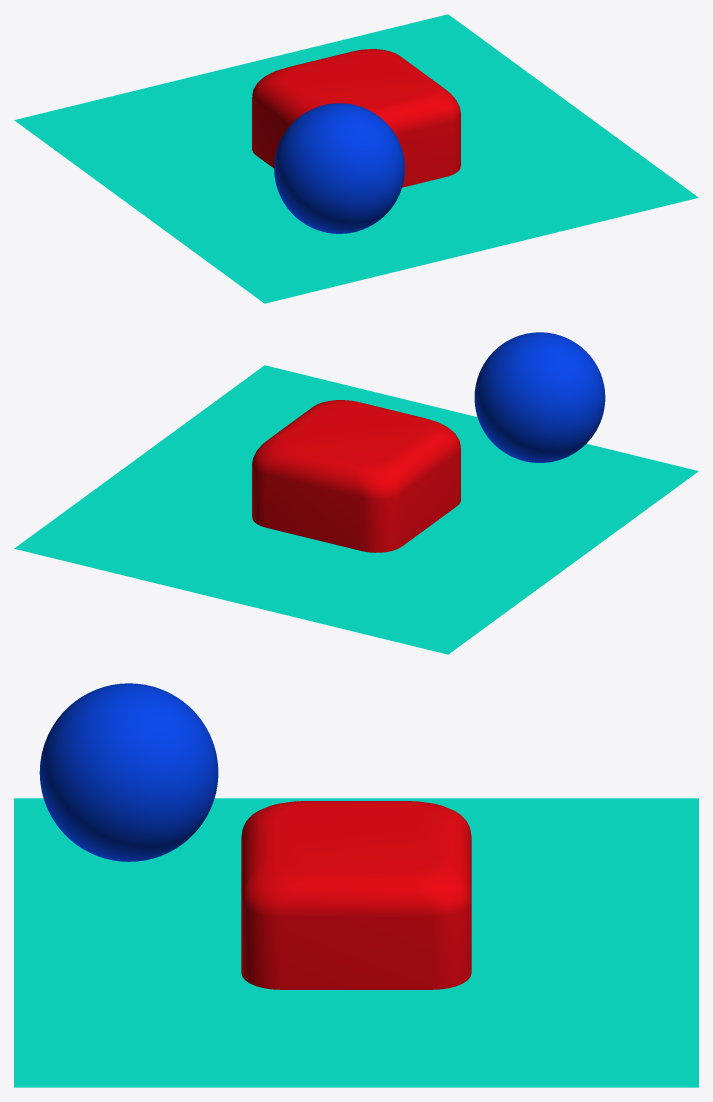
File: testGit.gltf
3 renders of one model, top to bottom at view 1: azimuth 30°, elevation 25°; view 2: azimuth 150°, elevation 25°; view 3: azimuth 270°, elevation 25°, orthographic. The views are drawn at different scales.
Visible parts, largest first — view 1: Plane, Cube, Cube.001; view 2: Plane, Cube, Cube.001; view 3: Plane, Cube, Cube.001.
Part boxes in pixels (box(x1,y1,x2,y2)): Plane: box(14, 14, 698, 303); Cube: box(252, 49, 460, 187); Cube.001: box(274, 103, 404, 233); Plane: box(14, 365, 698, 654); Cube: box(252, 400, 460, 552); Cube.001: box(474, 332, 605, 462); Plane: box(14, 798, 698, 1087); Cube: box(241, 801, 471, 989); Cube.001: box(39, 683, 218, 861).
Size of the model in its own units: 5.95 by 1.77 by 5.95.
